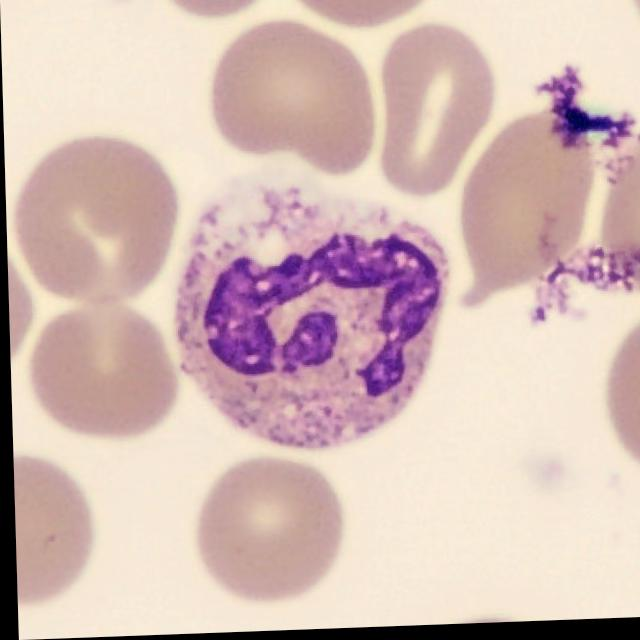Neutrofilo segmentado: (170, 186, 446, 453)
